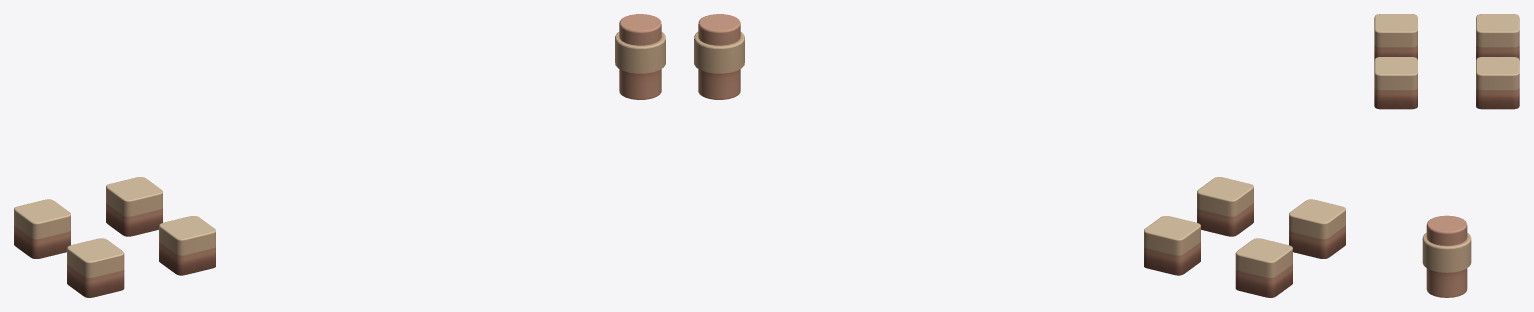
Rendered from Props.fbx.
3 views of the same model, side by side, from view 1: azimuth 30°, elevation 25°; view 2: azimuth 150°, elevation 25°; view 3: azimuth 270°, elevation 25° (orthographic). The views are drawn at different scales.
Parts seen in each view (by area): view 1: Cylinder-2, Box01 (2), Box01, Box01 (3), Box01 (1); view 2: Cylinder-2, Box01 (3), Box01 (1), Box01 (2), Box01; view 3: Cylinder-2, Box01, Box01 (1), Box01 (2), Box01 (3).
Part boxes in pixels (bbox=[...]): Cylinder-2: bbox=[615, 14, 665, 99]; Box01 (2): bbox=[67, 238, 124, 297]; Box01: bbox=[159, 216, 215, 275]; Box01 (3): bbox=[14, 199, 70, 258]; Box01 (1): bbox=[106, 177, 162, 236]; Cylinder-2: bbox=[694, 14, 744, 99]; Box01 (3): bbox=[1235, 238, 1292, 297]; Box01 (1): bbox=[1144, 216, 1200, 275]; Box01 (2): bbox=[1289, 199, 1345, 258]; Box01: bbox=[1197, 177, 1253, 236]; Cylinder-2: bbox=[1422, 215, 1471, 297]; Box01: bbox=[1374, 57, 1417, 109]; Box01 (1): bbox=[1476, 57, 1519, 109]; Box01 (2): bbox=[1374, 14, 1417, 60]; Box01 (3): bbox=[1476, 14, 1519, 60].
Bounding box in the file's own units: 46.69 × 7.62 × 10.
